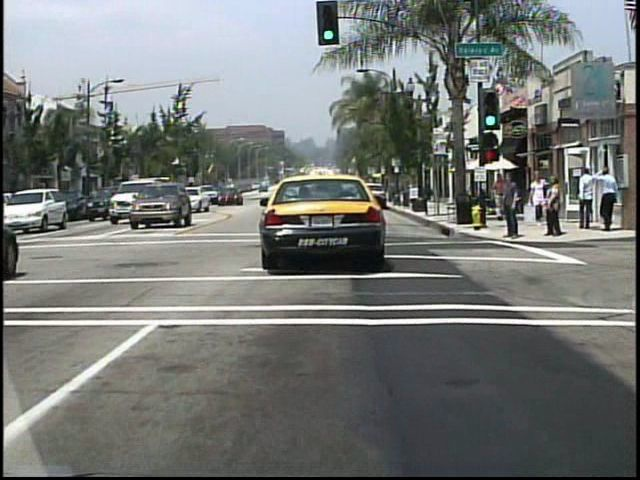person: (592, 167, 619, 233), (574, 165, 594, 231), (503, 174, 522, 241), (547, 176, 567, 238), (528, 173, 548, 229), (490, 174, 508, 224)
